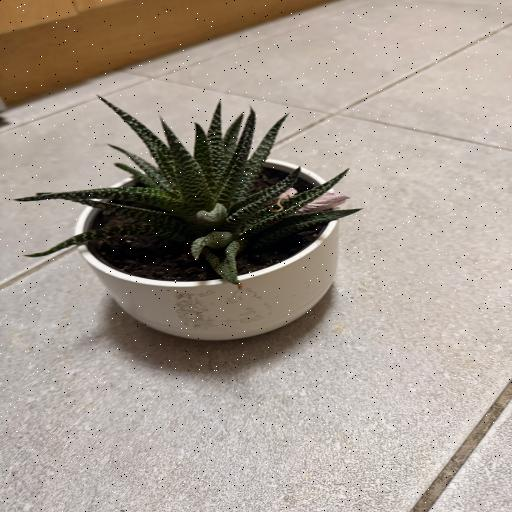Plant Pot: (73, 158, 342, 341)
